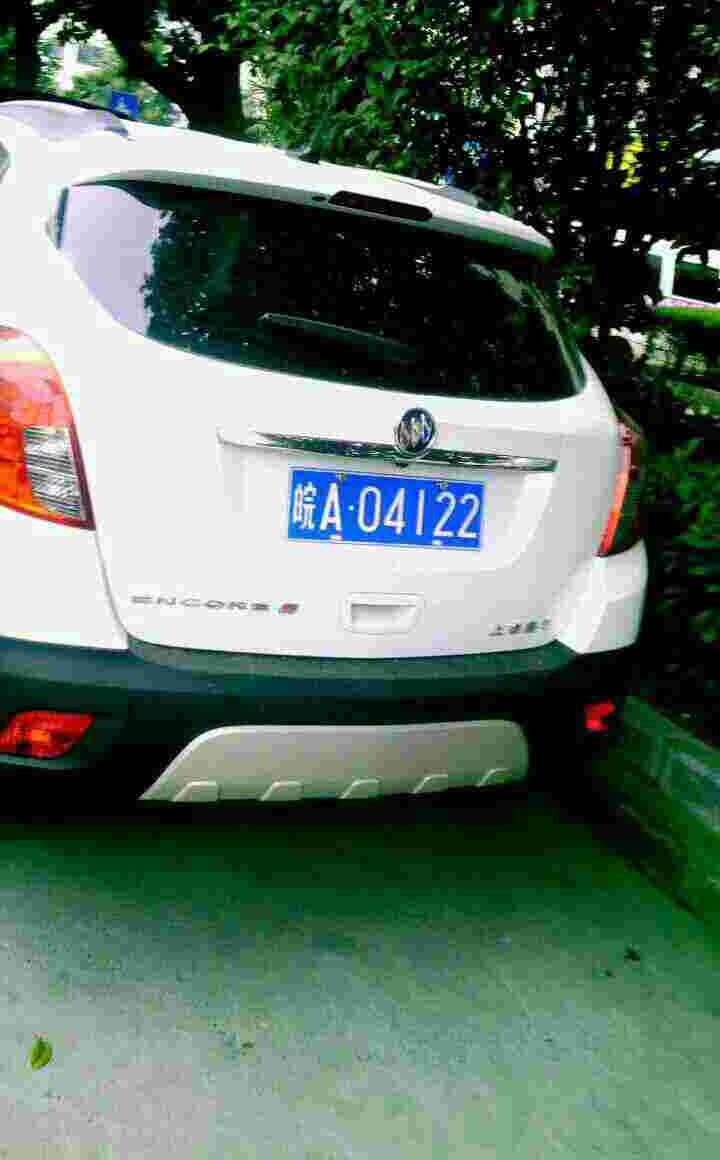license_plate: (287, 465, 498, 555)
